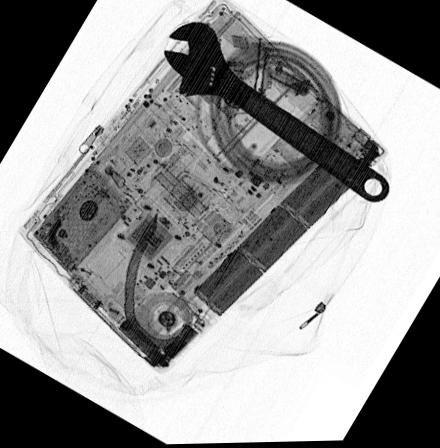Wrench: (161, 20, 390, 205)
